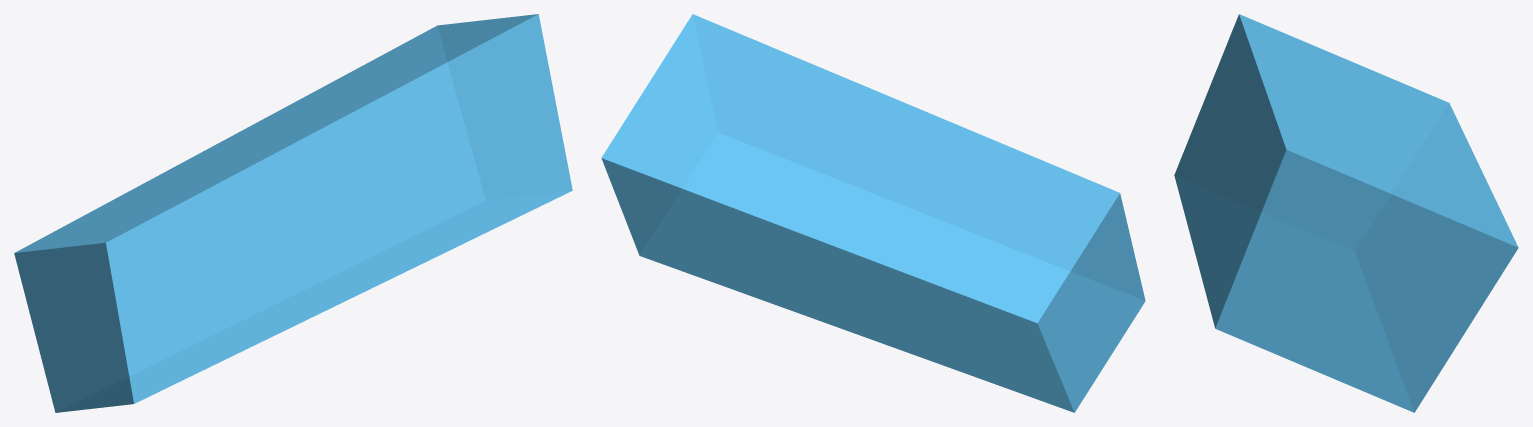
The model's file is Event_421278790_HErechit_39.fbx.
3 views of the same model, side by side, from view 1: azimuth 30°, elevation 25°; view 2: azimuth 150°, elevation 25°; view 3: azimuth 270°, elevation 25° (orthographic). The views are drawn at different scales.
Parts seen in each view (by area): view 1: Model; view 2: Model; view 3: Model.
Boxes of the visible parts, bbox=[...] form: Model: bbox=[14, 14, 572, 412]; Model: bbox=[601, 14, 1145, 412]; Model: bbox=[1174, 14, 1518, 412].
Bounding box in the file's own units: 1.16 × 0.7538 × 0.6617.
